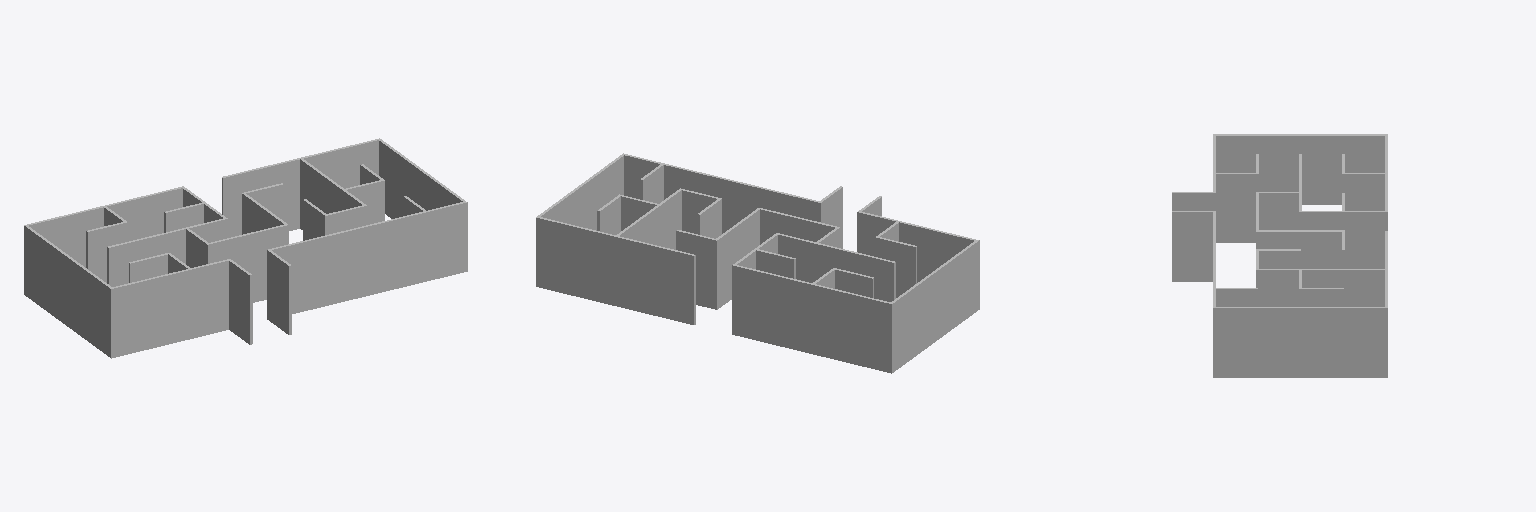
The model's file is Maze.obj.
3 renders of one model, left to right at view 1: azimuth 30°, elevation 25°; view 2: azimuth 150°, elevation 25°; view 3: azimuth 270°, elevation 25°, orthographic.
Bounding box in the file's own units: 12.78 × 2.38 × 6.72.